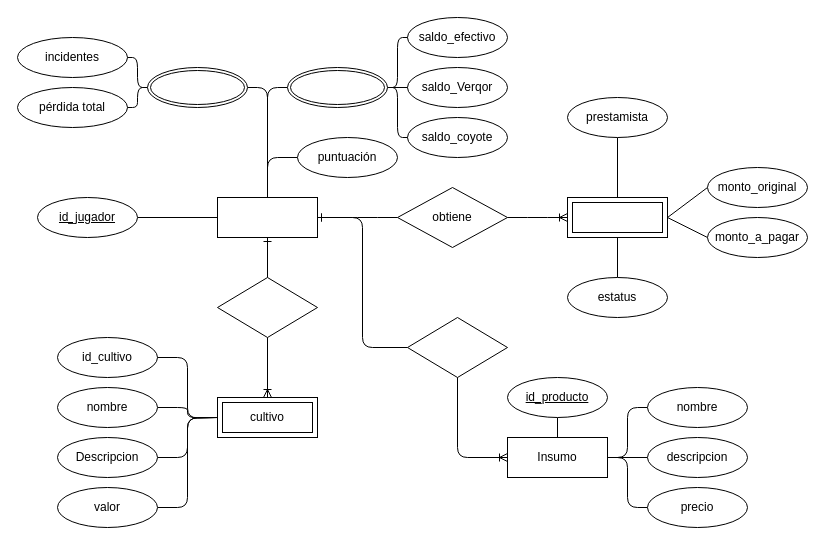
Some shapes in this 825 by 545 pixel diagram are drawn without their labels. The shapes that lost their labels are listed below. From the top down, each one's centre as x and y in pixels, then its label:
At point (197, 87): "suma asegurada".
At point (337, 87): "saldo".
At point (267, 217): "jugador".
At point (617, 217): "Préstamo".
At point (267, 307): "tiene".
At point (457, 347): "compra".
